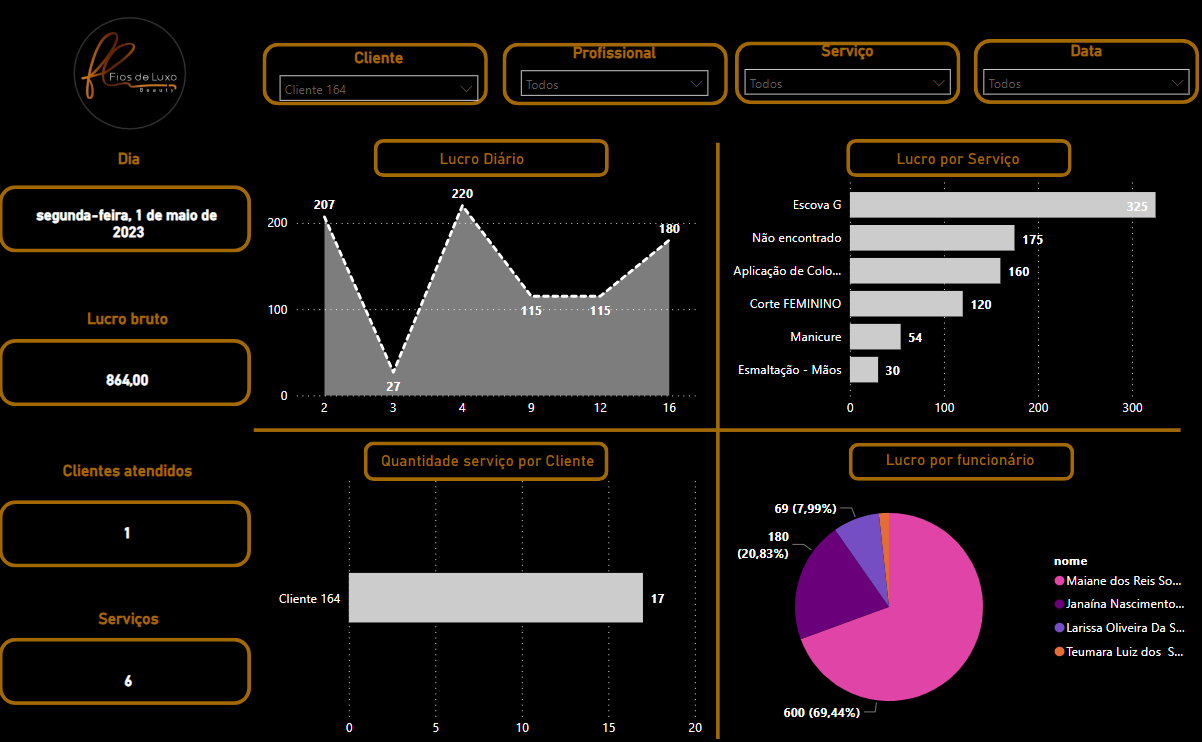

The page's visual inventory and layout, read from the dashboard file:
{"tool":"powerbi","page":{"name":"Overview","canvas":[1300,800],"ordinal":0},"visuals":[{"type":"shape","box":[1049.2,42.9,241.2,69.7],"z":0},{"type":"shape","box":[793.3,45.6,241.2,67],"z":1000},{"type":"shape","box":[544.1,46.9,241.2,67],"z":2000},{"type":"shape","box":[286.8,46.9,241.2,67],"z":3000},{"type":"slicer","title":"Serviço","fields":{"Values":["d_servico.nome"]},"box":[793.3,45.6,241.2,64.3],"z":4000},{"type":"slicer","title":"Cliente","fields":{"Values":["d_cliente.nome"]},"box":[294.8,52.3,233.2,61.6],"z":5000},{"type":"slicer","title":"Profissional","fields":{"Values":["d_funcionario.nome"]},"box":[553.4,46.9,221.1,64.3],"z":6000},{"type":"pieChart","title":"Lucro por funcionário","fields":{"Category":["d_funcionario.nome"],"Y":["Sum(fato_pagamento.valor_pago)"]},"box":[777.8,483.3,515,317.1],"z":7000},{"type":"card","title":"Lucro bruto","fields":{"Values":["Sum(fato_pagamento.valor_pago)"]},"box":[17.4,332.3,249.2,135.3],"z":8000},{"type":"slicer","title":"Data","fields":{"Values":["d_agenda.data"]},"box":[1049.2,45.6,241.2,64.3],"z":9000},{"type":"clusteredBarChart","title":"Lucro por Serviço","fields":{"Category":["d_servico.nome"],"Y":["Sum(fato_pagamento.valor_pago)"]},"box":[774.5,160.8,515.9,296.1],"z":10000},{"type":"card","title":"Dia","fields":{"Values":["Min(d_agenda.data)"]},"box":[18.8,160.8,249.2,142],"z":11000},{"type":"card","title":"Clientes atendidos","fields":{"Values":["Count(fato_pagamento.id_cliente)"]},"box":[17.4,495.8,249.2,135.3],"z":12000},{"type":"card","title":"Serviços ","fields":{"Values":["Count(fato_pagamento.id_servico)"]},"box":[19,653.3,248.6,135.8],"z":13000},{"type":"areaChart","title":"Lucro Diário","fields":{"Category":["d_agenda.data.Variation.Hierarquia de datas.Dia"],"Y":["Sum(fato_pagamento.valor_pago)"]},"box":[286.8,160.8,470.4,296.1],"z":14000},{"type":"barChart","title":"Quantidade serviço por Cliente","fields":{"Category":["d_cliente.nome"],"Y":["CountNonNull(fato_pagamento.id_cliente)"]},"box":[293,484.8,469.7,315.6],"z":15000},{"type":"image","box":[33.5,0,219.8,160.8],"z":16000},{"type":"shape","box":[4,199.7,270.7,72.4],"z":17000},{"type":"shape","box":[4,364.5,270.7,72.4],"z":18000},{"type":"shape","box":[4,684.8,270.7,72.4],"z":19000},{"type":"shape","box":[4,537.4,270.7,72.4],"z":20000},{"type":"shape","box":[277.9,457.6,993.7,10.6],"z":21000},{"type":"shape","box":[770.2,154,9.1,638.8],"z":22000},{"type":"shape","box":[912.2,149.5,241.6,40.8],"z":23000},{"type":"shape","box":[915.2,475.7,241.6,40.8],"z":24000},{"type":"shape","box":[406.3,149.5,252.2,40.8],"z":25000},{"type":"shape","box":[395.7,474.2,262.8,42.3],"z":26000}]}

Visuals, with their boxes in screenshot pixels (x1, y1, x2, y2), scaled from the page's 1300x800 canvas onto the 1202x742 screenshot:
shape: region(970, 40, 1193, 104)
shape: region(733, 42, 957, 104)
shape: region(503, 43, 726, 106)
shape: region(265, 43, 488, 106)
"Serviço" slicer: region(733, 42, 957, 102)
"Cliente" slicer: region(273, 49, 488, 106)
"Profissional" slicer: region(512, 43, 716, 103)
"Lucro por funcionário" pieChart: region(719, 448, 1195, 741)
"Lucro bruto" card: region(16, 308, 247, 434)
"Data" slicer: region(970, 42, 1193, 102)
"Lucro por Serviço" clusteredBarChart: region(716, 149, 1193, 424)
"Dia" card: region(17, 149, 248, 281)
"Clientes atendidos" card: region(16, 460, 247, 585)
"Serviços " card: region(18, 606, 247, 732)
"Lucro Diário" areaChart: region(265, 149, 700, 424)
"Quantidade serviço por Cliente" barChart: region(271, 450, 705, 741)
image: region(31, 0, 234, 149)
shape: region(4, 185, 254, 252)
shape: region(4, 338, 254, 405)
shape: region(4, 635, 254, 702)
shape: region(4, 498, 254, 566)
shape: region(257, 424, 1176, 434)
shape: region(712, 143, 721, 735)
shape: region(843, 139, 1067, 177)
shape: region(846, 441, 1070, 479)
shape: region(376, 139, 609, 177)
shape: region(366, 440, 609, 479)
